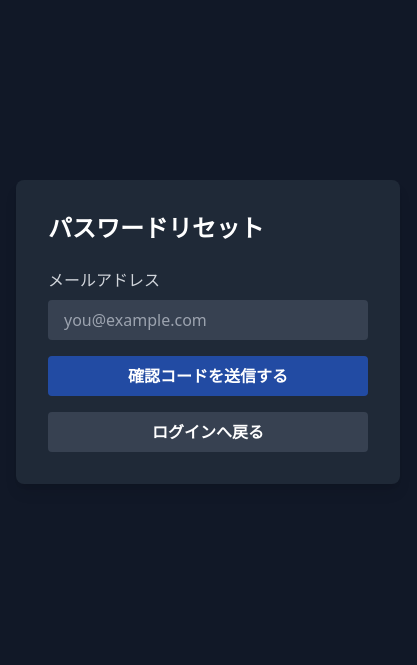
Test case: PasswordResetPage › sends a reset code to the email address
Type "user@example.com" into the field labelled "メールアドレス" at (208, 320), box [48, 300, 368, 340]
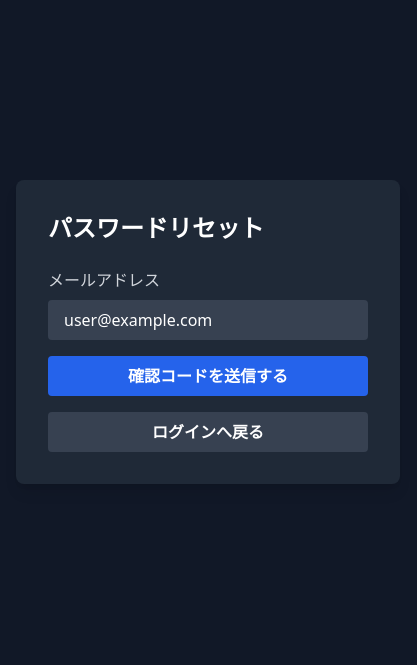
Click the button "確認コードを送信する" at (208, 376), box [48, 356, 368, 396]
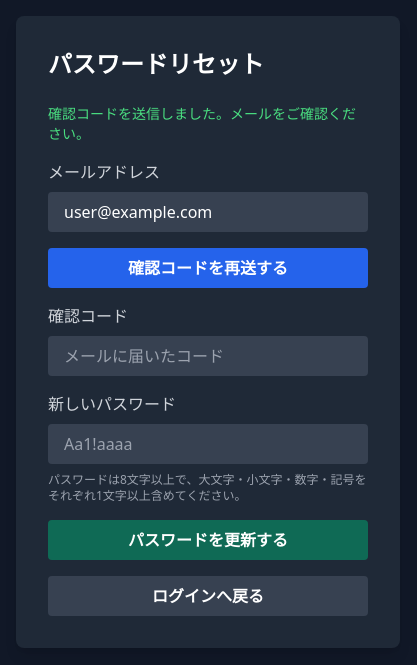
expect the text "確認コードを送信しました。メールをご確認ください。" is shown: met, box [48, 104, 368, 144]
expect the button "パスワードを更新する" is shown: met, box [48, 520, 368, 560]
